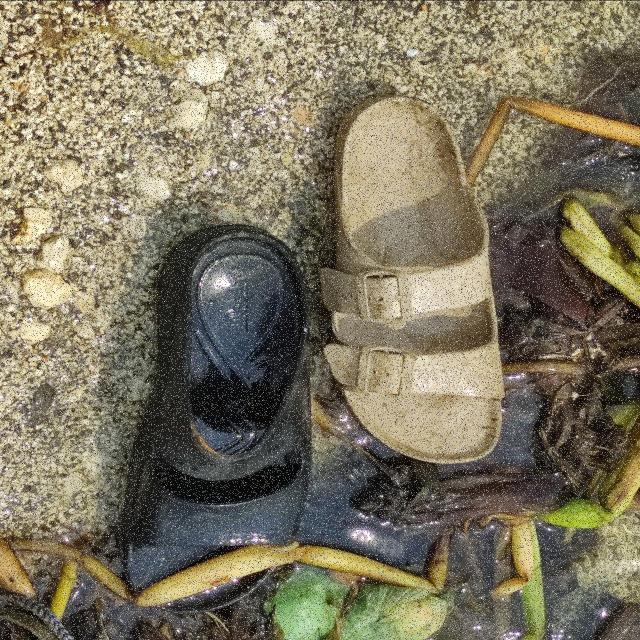rubber_waste: (120, 222, 318, 616), (317, 93, 509, 466)
